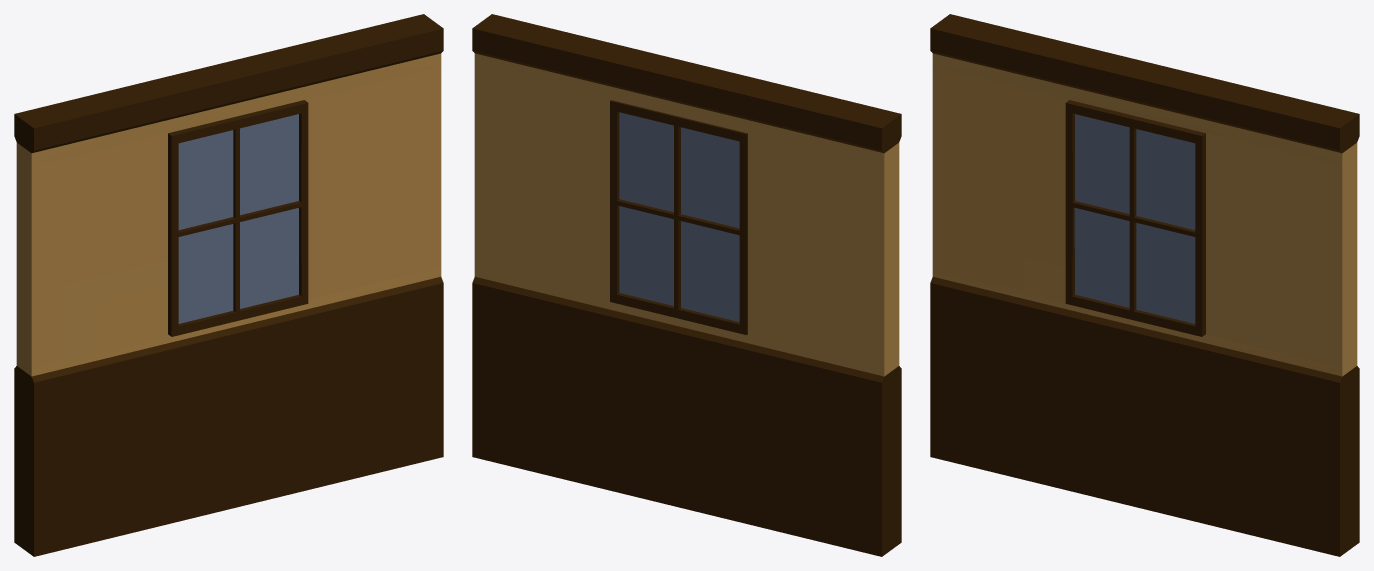
The model's file is Classic_WallWindow_01_snaps001.fbx.
The picture shows the model from 3 angles, left to right: view 1: azimuth 30°, elevation 25°; view 2: azimuth 150°, elevation 25°; view 3: azimuth 330°, elevation 25°; orthographic projection.
Parts seen in each view (by area): view 1: Classic_WallWindow_01_snaps001; view 2: Classic_WallWindow_01_snaps001; view 3: Classic_WallWindow_01_snaps001.
Boxes of the visible parts, box(x1,y1,x2,y2) form: Classic_WallWindow_01_snaps001: box(14, 14, 443, 556); Classic_WallWindow_01_snaps001: box(472, 14, 901, 556); Classic_WallWindow_01_snaps001: box(930, 14, 1359, 556).
Size of the model in its own units: 300 by 300 by 26.56.
